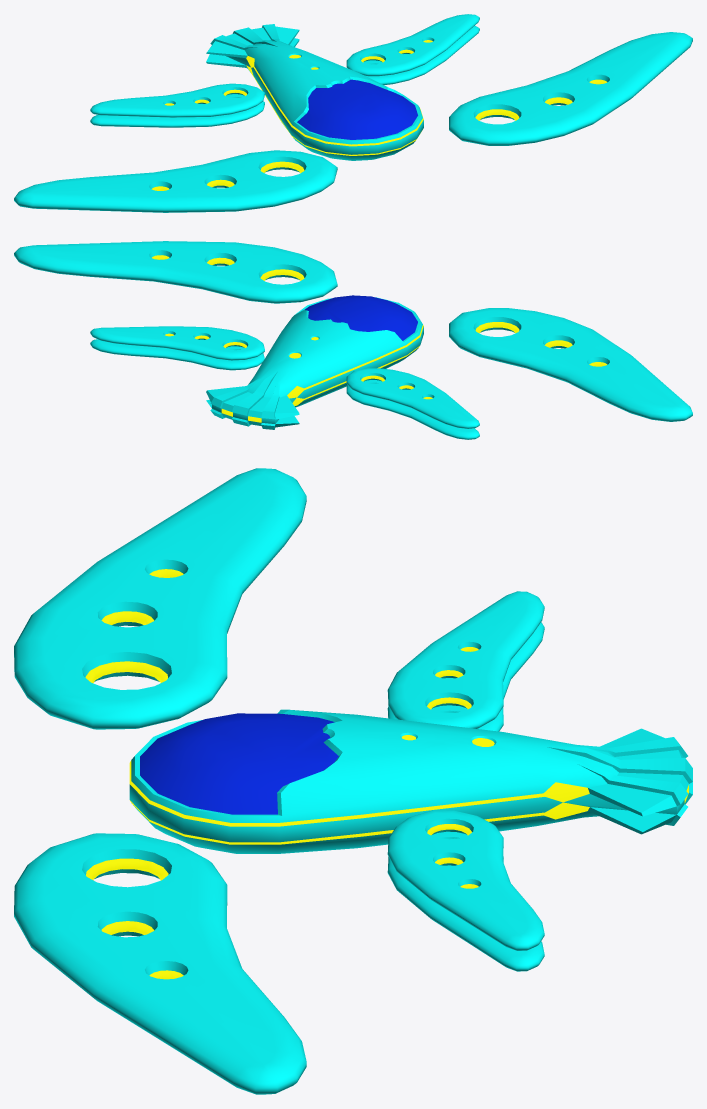
The model's file is Manta_Test.fbx.
3 views of the same model, one above another, from view 1: azimuth 30°, elevation 25°; view 2: azimuth 150°, elevation 25°; view 3: azimuth 270°, elevation 25° (orthographic). The views are drawn at different scales.
Visible parts, largest first — view 1: Fusilage.002, WingRight.001, WingLeft.001, ThrusterRightTop, ThrusterLeftTop, ThrusterRightbotoom, ThrusterLeftBottom; view 2: Fusilage.002, WingLeft.001, WingRight.001, ThrusterLeftTop, ThrusterRightTop, ThrusterLeftBottom, ThrusterRightbotoom; view 3: Fusilage.002, WingLeft.001, WingRight.001, ThrusterLeftTop, ThrusterRightTop, ThrusterLeftBottom, ThrusterRightbotoom.
Boxes of the visible parts, box(x1,y1,x2,y2) form: Fusilage.002: box(206, 24, 423, 160); WingRight.001: box(14, 150, 337, 212); WingLeft.001: box(449, 32, 692, 145); ThrusterRightTop: box(90, 83, 264, 117); ThrusterLeftTop: box(346, 14, 479, 76); ThrusterRightbotoom: box(90, 94, 264, 127); ThrusterLeftBottom: box(363, 26, 479, 84); Fusilage.002: box(206, 295, 423, 429); WingLeft.001: box(14, 241, 337, 303); WingRight.001: box(449, 308, 692, 421); ThrusterLeftTop: box(90, 326, 264, 360); ThrusterRightTop: box(346, 368, 479, 428); ThrusterLeftBottom: box(90, 339, 264, 370); ThrusterRightbotoom: box(346, 380, 479, 439); Fusilage.002: box(129, 709, 692, 853); WingLeft.001: box(14, 833, 306, 1094); WingRight.001: box(14, 468, 306, 729); ThrusterLeftTop: box(387, 810, 544, 950); ThrusterRightTop: box(387, 591, 544, 728); ThrusterLeftBottom: box(387, 831, 544, 971); ThrusterRightbotoom: box(387, 622, 544, 731).
Size of the model in its own units: 488 by 31.92 by 226.
